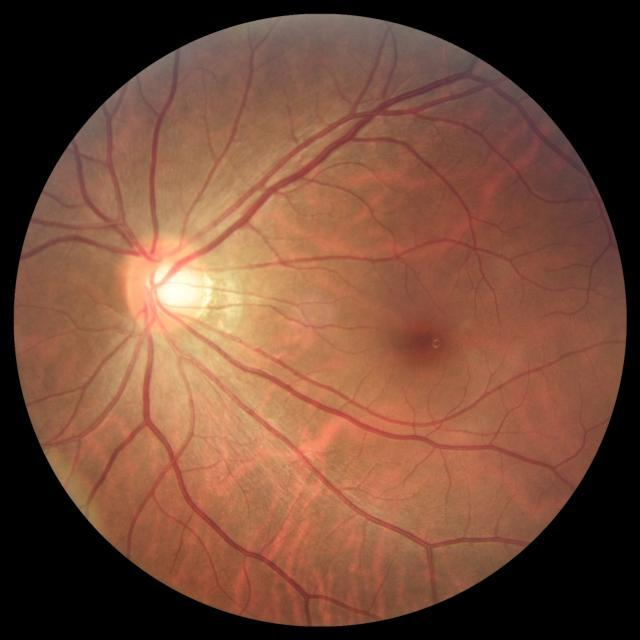OC: (147, 263, 199, 309)
OD: (124, 234, 208, 332)
